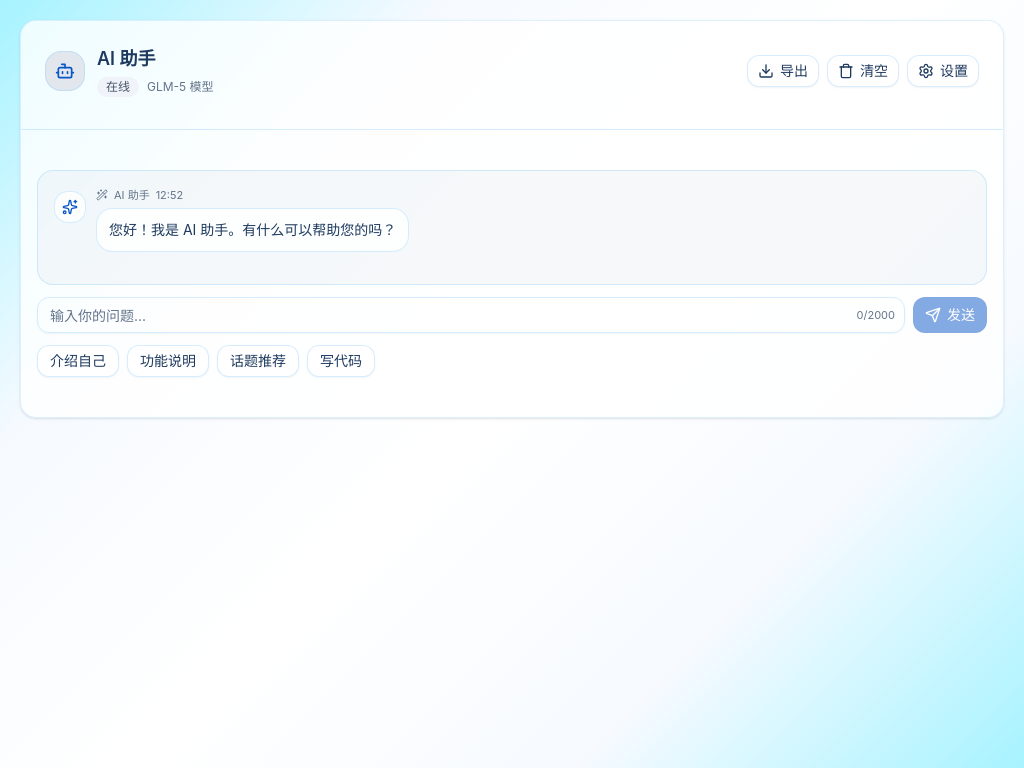
AiChatPage 默认后端 › 第二句话带上第一句返回的 conversation_id（上下文连续）
Type "第一句" into the field with placeholder "输入你的问题...". click: (471, 315)
box: [37,297,905,333]
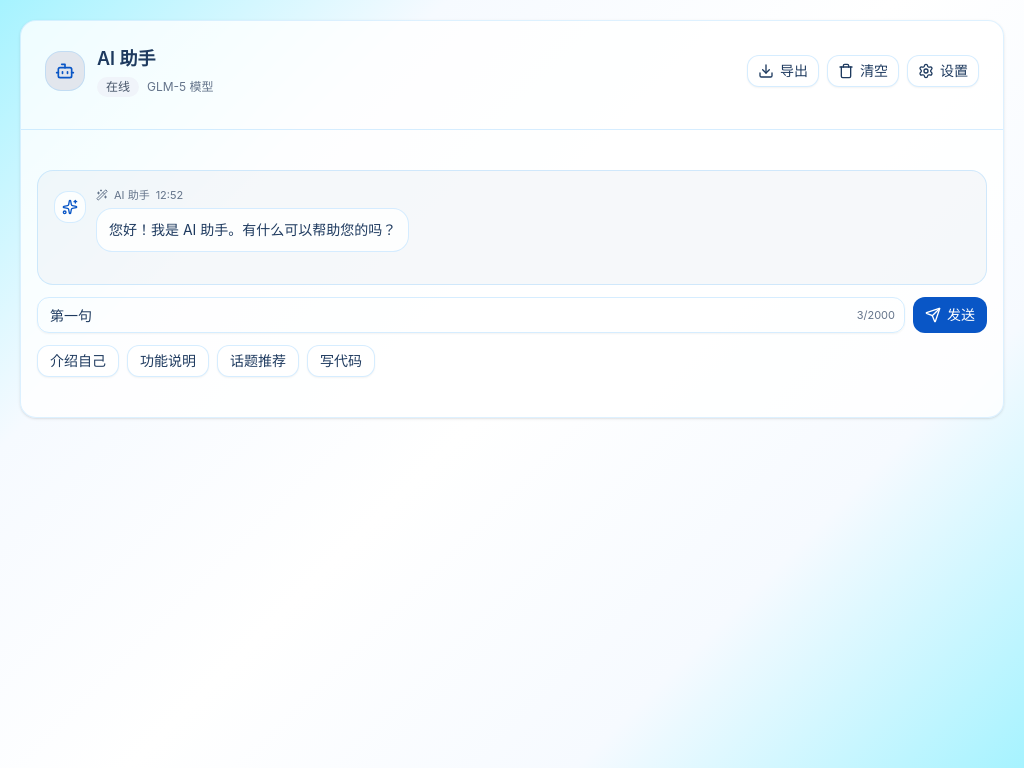
Submit the form with placeholder "输入你的问题", box [37,297,987,377]
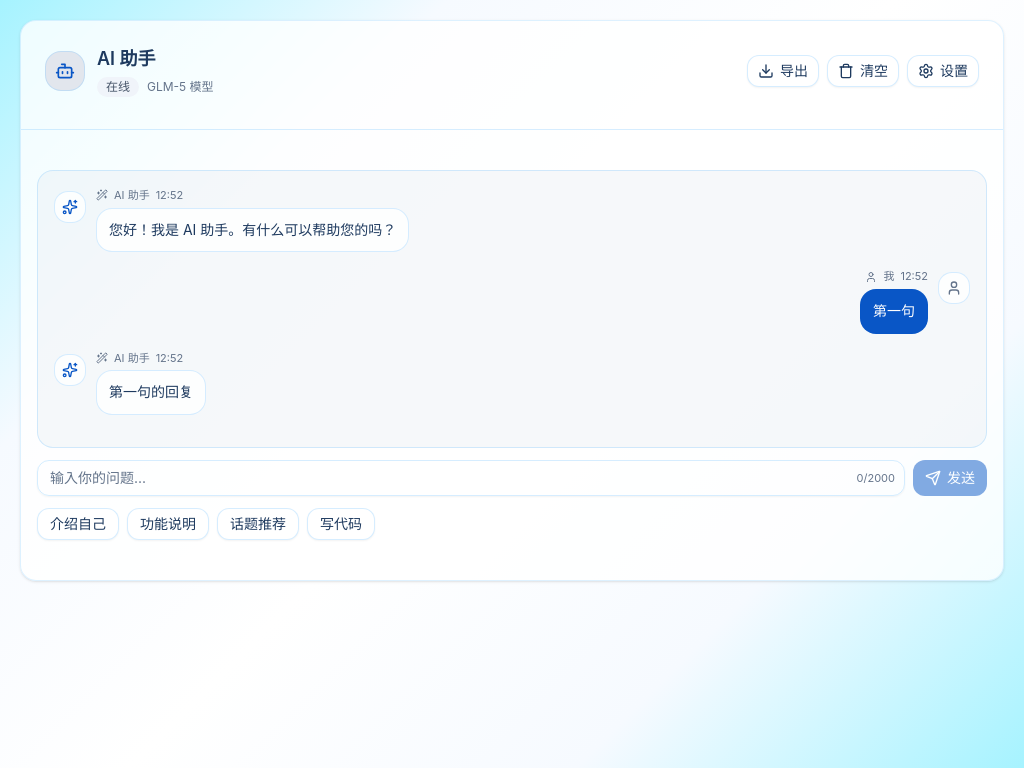
Check: the text "第一句的回复" is shown, box [96,370,206,415]
Type "第二句" into the field with placeholder "输入你的问题...". click: (471, 478)
box: [37,460,905,496]
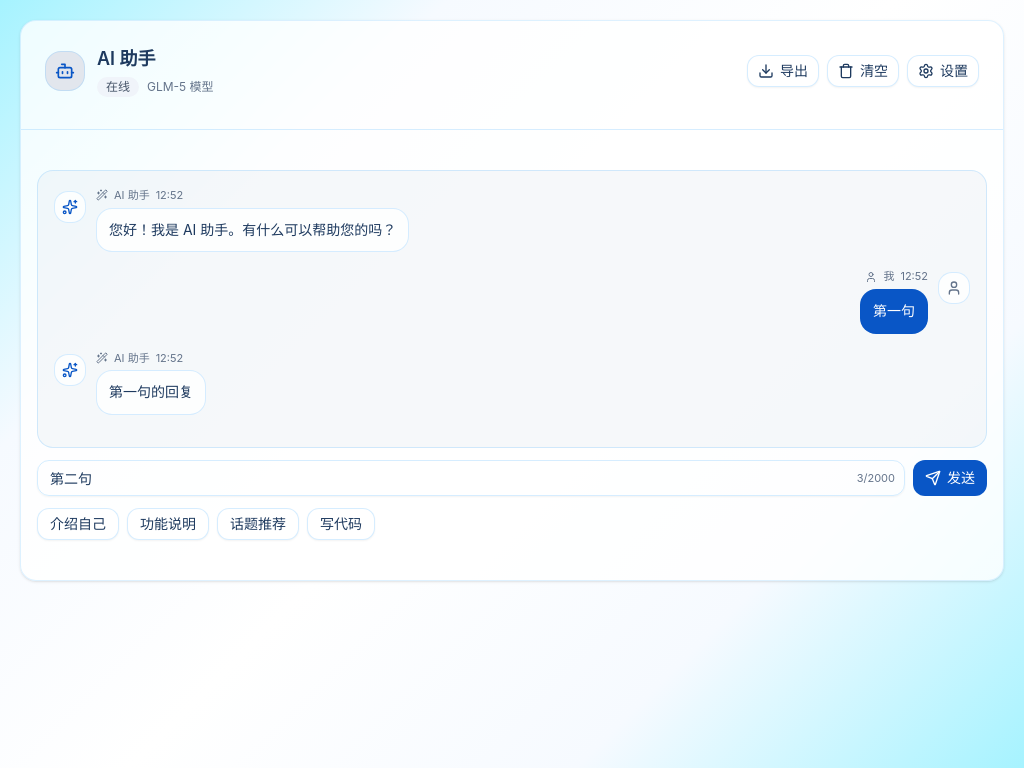
Submit the form with placeholder "输入你的问题", box [37,460,987,540]
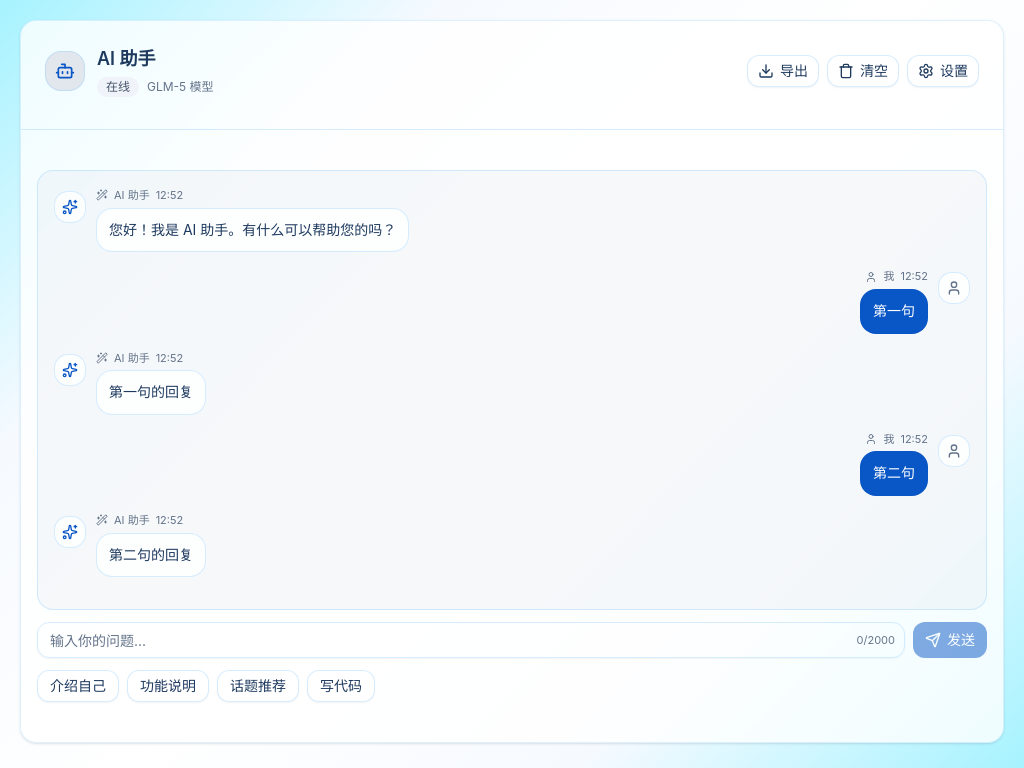
Check: the text "第二句的回复" is shown, box [96,532,206,577]
